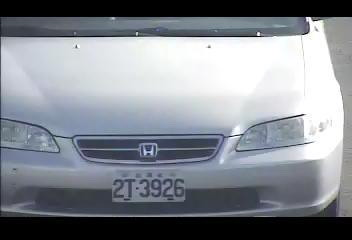plate: (113, 170, 187, 203)
